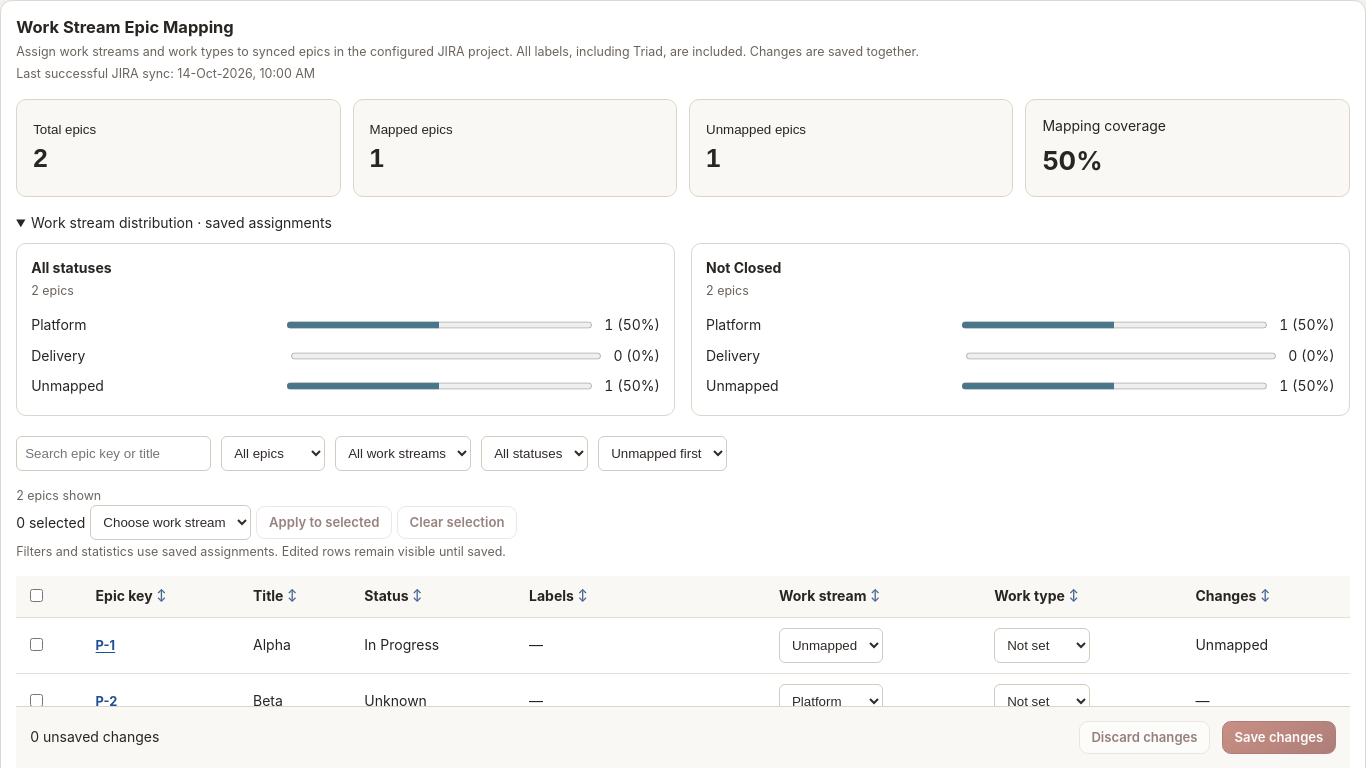
Test: Epic mapping › uses synced JIRA status labels and an Unknown fallback in rows and filters
Expected: the dropdown named "Work stream for P-1" is shown, [779,628,883,663]
Expected: the text "In Progress" is shown, [354,617,519,673]
Select "Unknown" in the dropdown named "Status filter": (535, 454) [481,436,588,471]
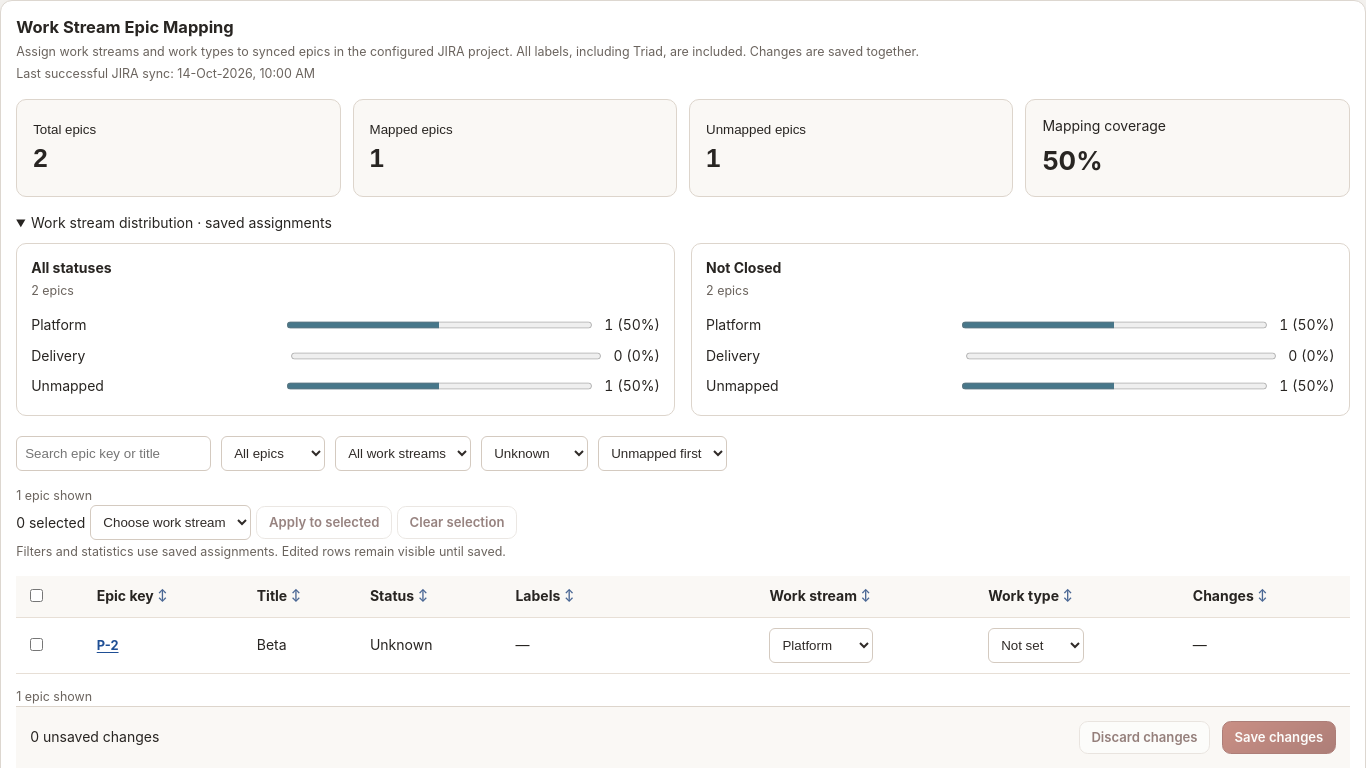
Expected: the text "Unknown" is shown, [360,617,505,673]
Expected: the link "P-1" is gone
